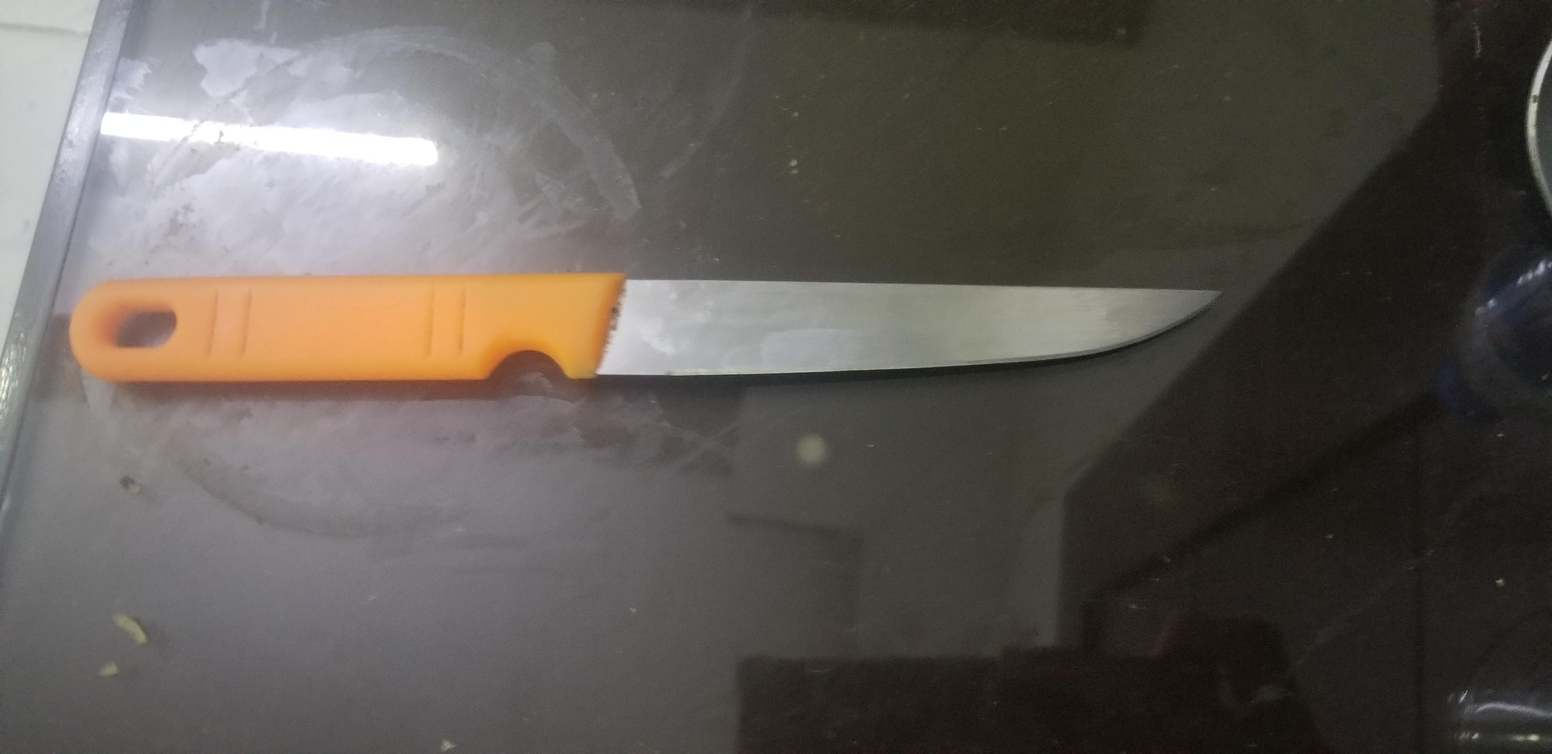knives: (715, 24, 1007, 600)
